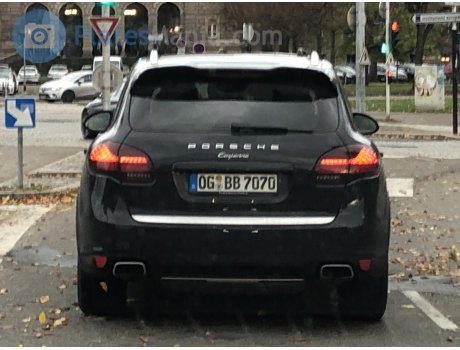License Plates: (199, 176, 277, 189)
